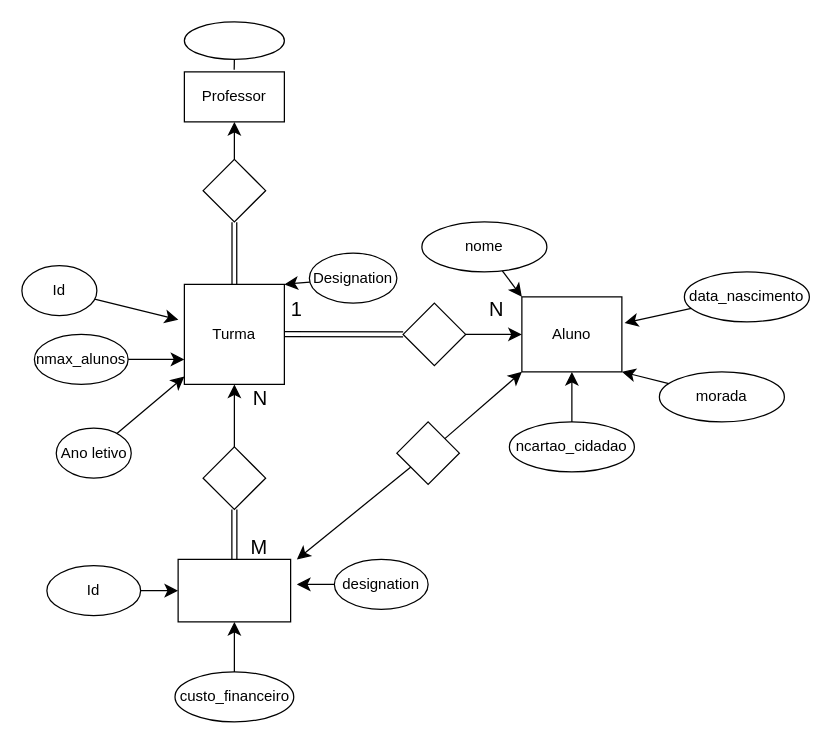
Some shapes in this 831 by 744 pixel diagram are drawn without their labels. Here are the shapes that lost their labels. From the top down, the centre of each, then its label:
At point 233,40: "n_funcionario".
At point 234,190: "tem".
At point 434,334: "pertence".
At point 427,452: "participa".
At point 234,477: "realiza".
At point 234,590: "Atividades".
